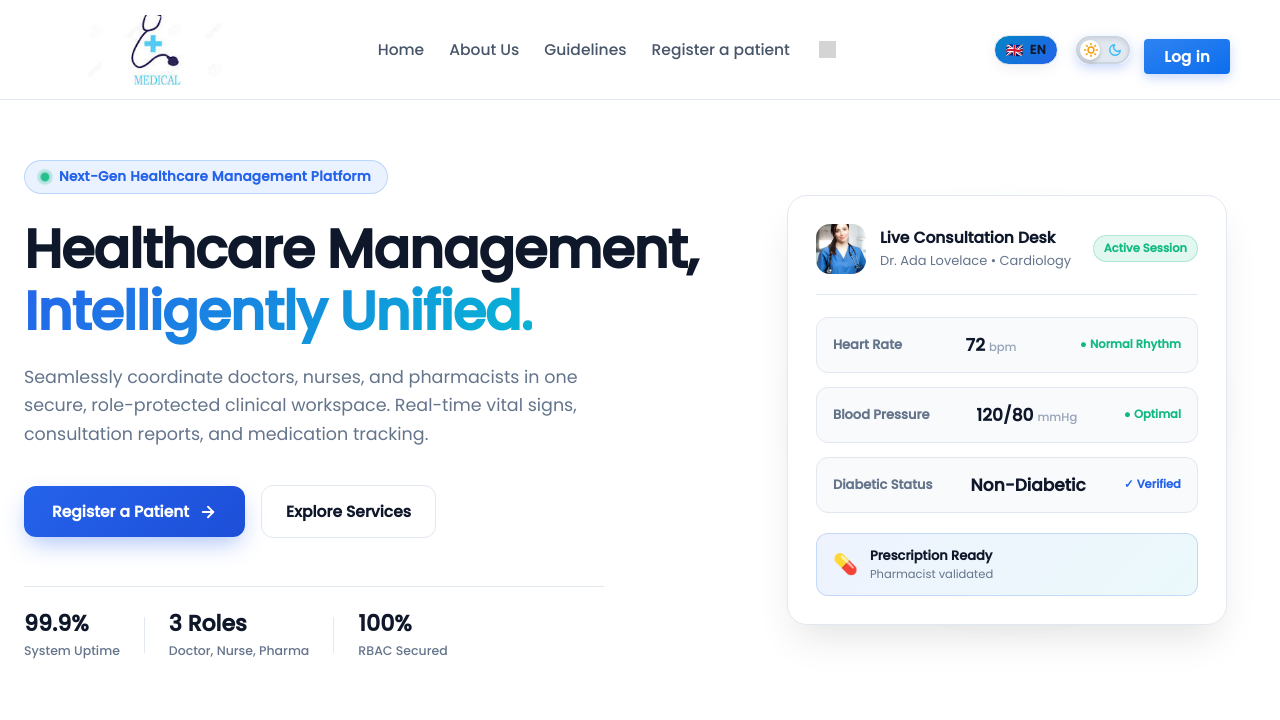
Test case: Public Navigation & UI Smoke Tests › toggles between English and French dynamically
The width and height of the screenshot is (1280, 720).
Expected: the text with class "lang-code" reads "EN", [1030, 41, 1047, 59]
Note: Click toggle to switch to French
What coordinates should you click on to do the following:
click the button with class "language-toggle-btn"
I would click on:
 (1026, 50)
Its box is [994, 35, 1058, 65].
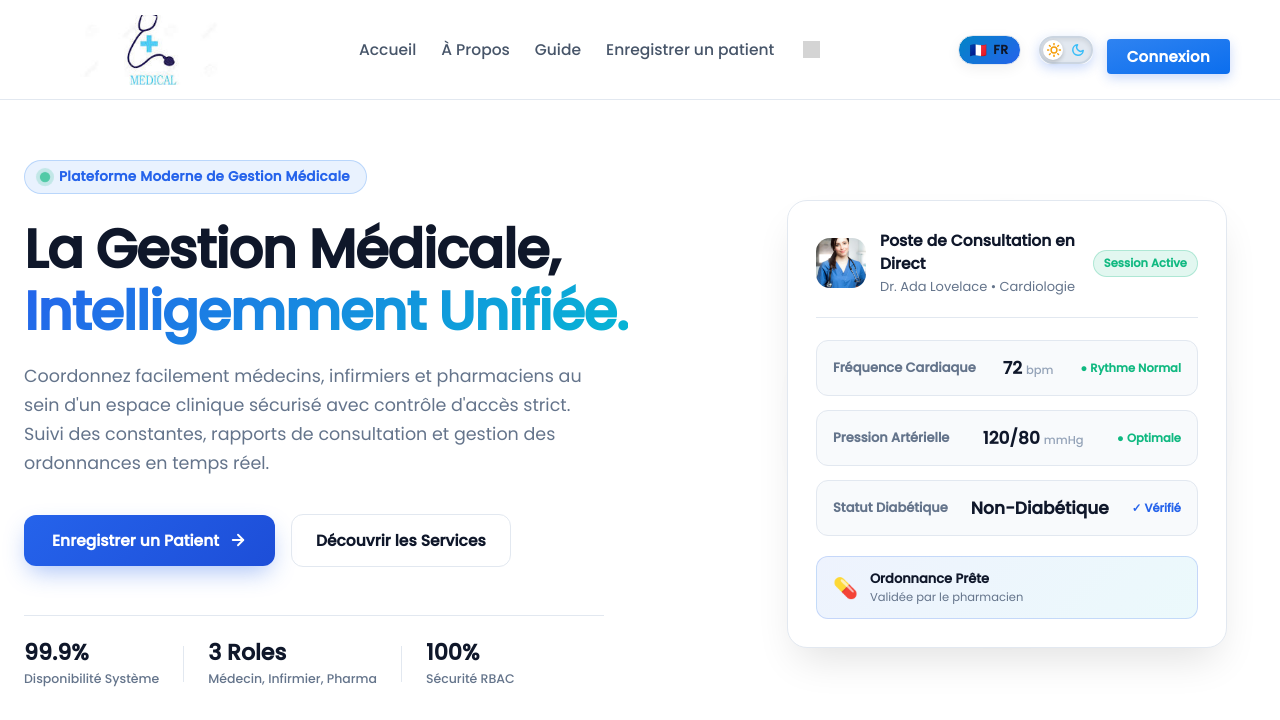
Expected: the link "Guide" is shown, [535, 39, 581, 60]
Expected: the text with class "lang-code" reads "FR", [993, 41, 1008, 59]
Expected: the link "Accueil" is shown, [359, 39, 416, 60]
Note: Click again to return to English
What coordinates should you click on to do the following:
click the button with class "language-toggle-btn"
I would click on:
 (990, 50)
Its box is [958, 35, 1021, 65].
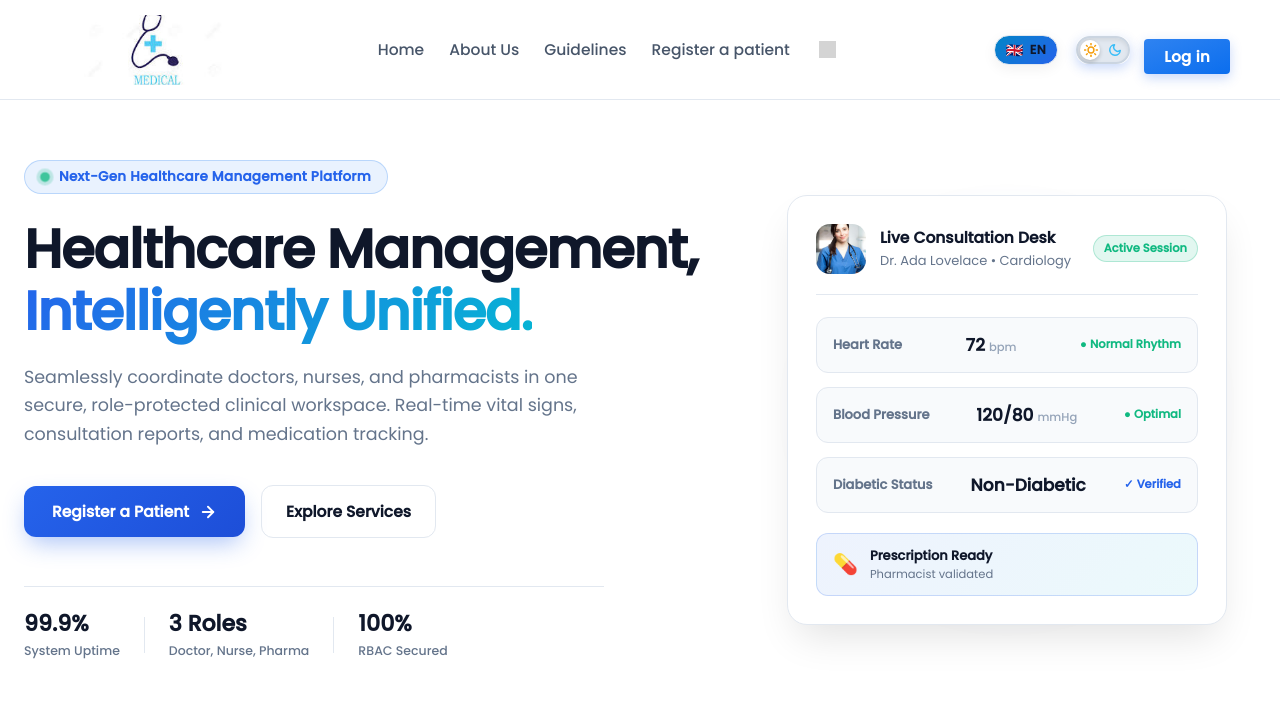
Expected: the text with class "lang-code" reads "EN", [1030, 41, 1047, 59]
Expected: the link "Home" is shown, [378, 39, 424, 60]
